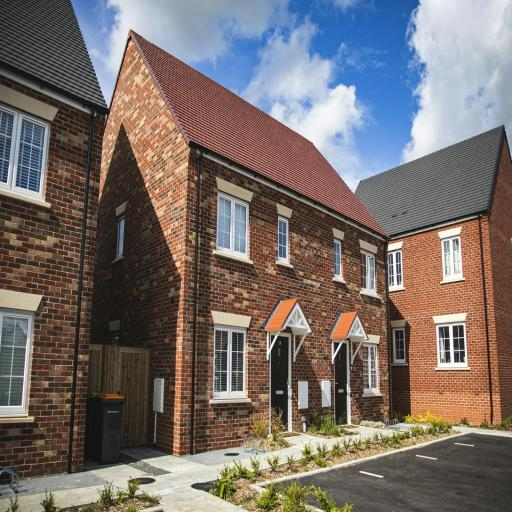door: (269, 338, 293, 447)
